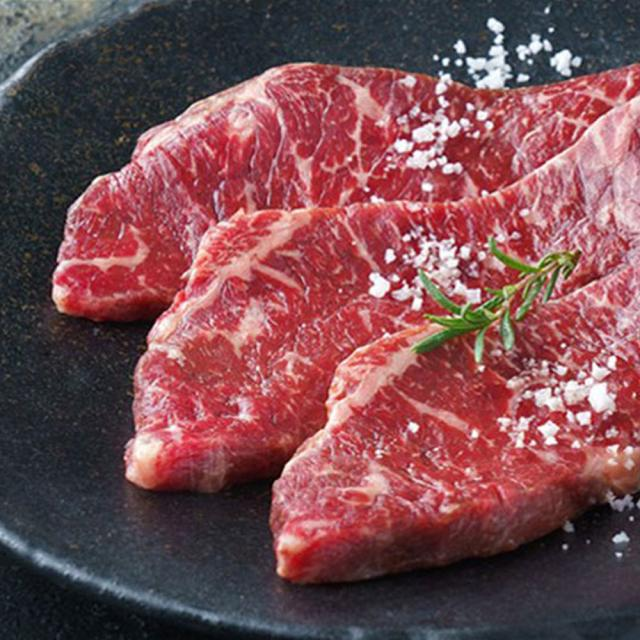beef: (138, 173, 401, 419)
